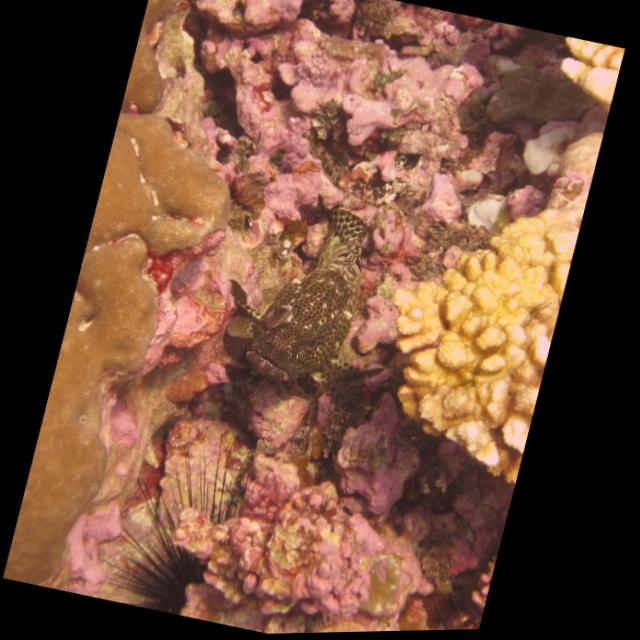Groupers: (204, 185, 420, 406)
